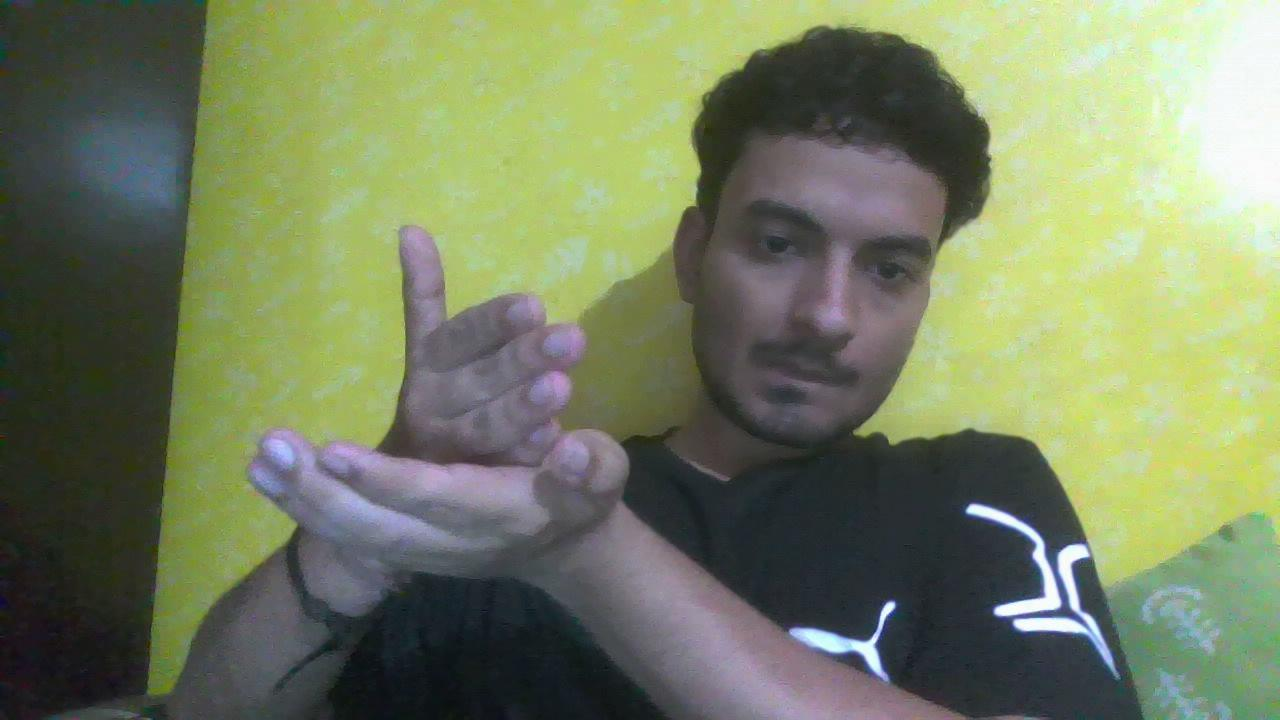stop: (216, 195, 696, 653)
